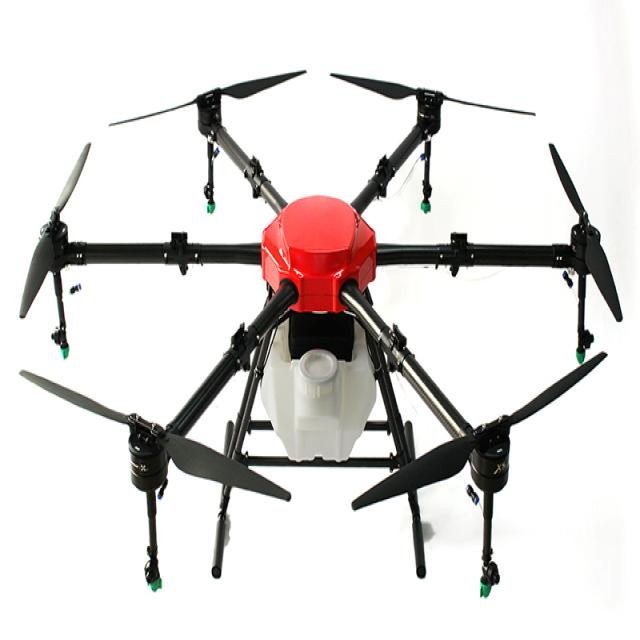drone: (25, 61, 640, 584)
